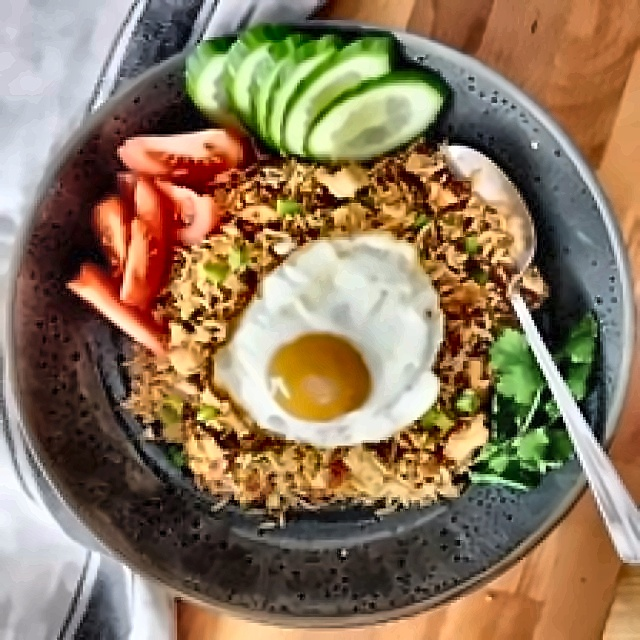cucumber_slice: (220, 19, 394, 154), (183, 37, 243, 123)
egg: (212, 232, 439, 446)
rice: (89, 129, 626, 577)
